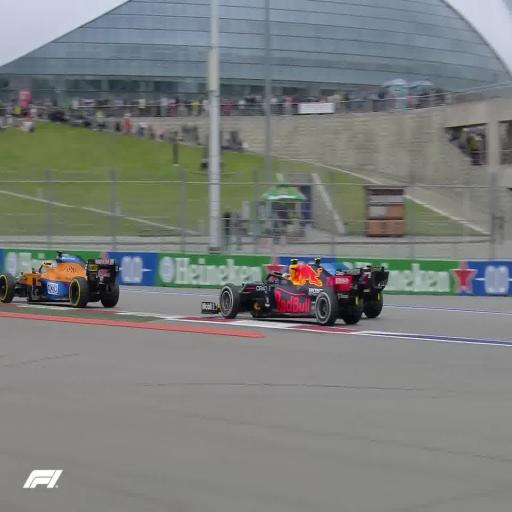f1_car: (202, 258, 388, 325), (0, 252, 119, 307)
